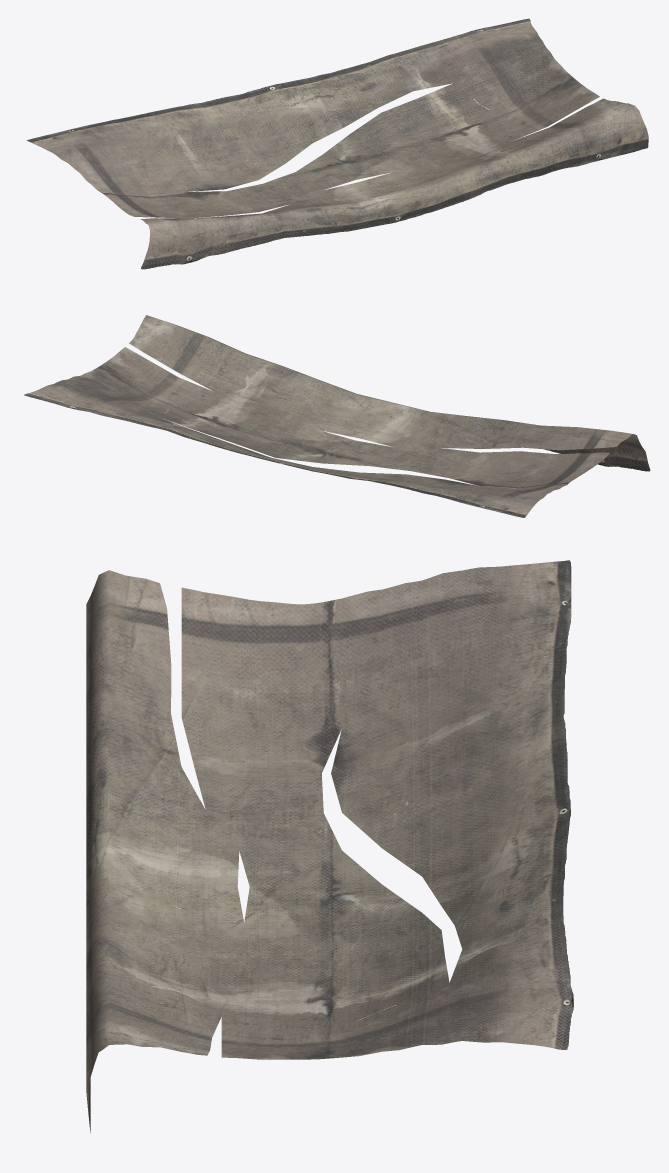
File: Canopy1.fbx
3 renders of one model, top to bottom at view 1: azimuth 30°, elevation 25°; view 2: azimuth 150°, elevation 25°; view 3: azimuth 270°, elevation 25°, orthographic. The views are drawn at different scales.
Visible parts, largest first — view 1: Cloth.011; view 2: Cloth.011; view 3: Cloth.011.
Part boxes in pixels (bbox=[...]): Cloth.011: bbox=[27, 18, 648, 269]; Cloth.011: bbox=[24, 315, 650, 517]; Cloth.011: bbox=[86, 560, 573, 1133].
Bounding box in the file's own units: 522 × 59.28 × 217.
